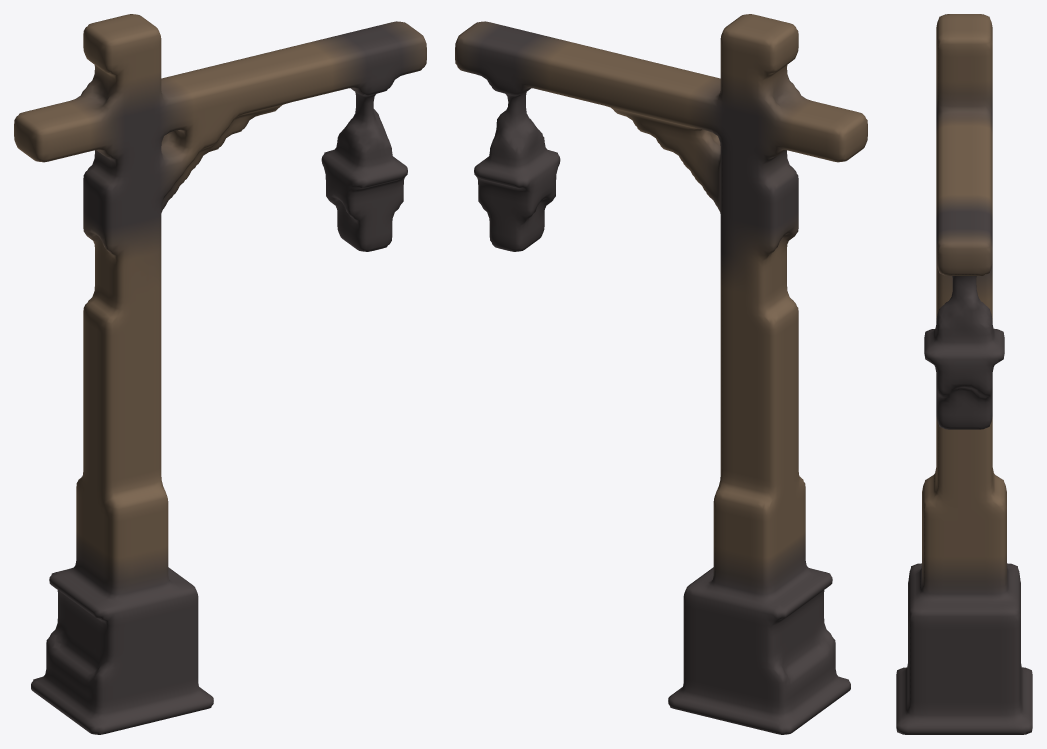
File: Lantern_128B_vox.glb
The picture shows the model from 3 angles, left to right: view 1: azimuth 30°, elevation 25°; view 2: azimuth 150°, elevation 25°; view 3: azimuth 270°, elevation 25°; orthographic projection.
Visible parts, largest first — view 1: shapehash-vox; view 2: shapehash-vox; view 3: shapehash-vox.
Boxes of the visible parts, x1=… form: shapehash-vox: x1=14, y1=14, x2=426, y2=734; shapehash-vox: x1=455, y1=14, x2=867, y2=734; shapehash-vox: x1=896, y1=14, x2=1032, y2=734.
Size of the model in its own units: 1.22 by 2 by 0.3625.
